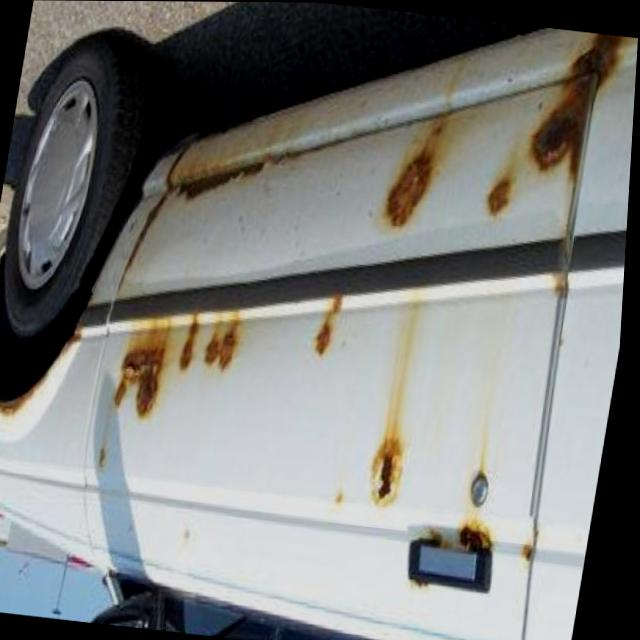Rust: (525, 32, 626, 184), (109, 324, 171, 419), (119, 188, 173, 287), (174, 158, 270, 208), (383, 138, 432, 230), (365, 434, 403, 509), (421, 517, 496, 552), (200, 310, 241, 372), (310, 294, 346, 357), (0, 374, 46, 416), (171, 313, 198, 371), (483, 168, 511, 214), (56, 326, 84, 352), (551, 268, 567, 302), (96, 447, 110, 469), (408, 576, 430, 589), (519, 542, 532, 562), (331, 492, 344, 505)
